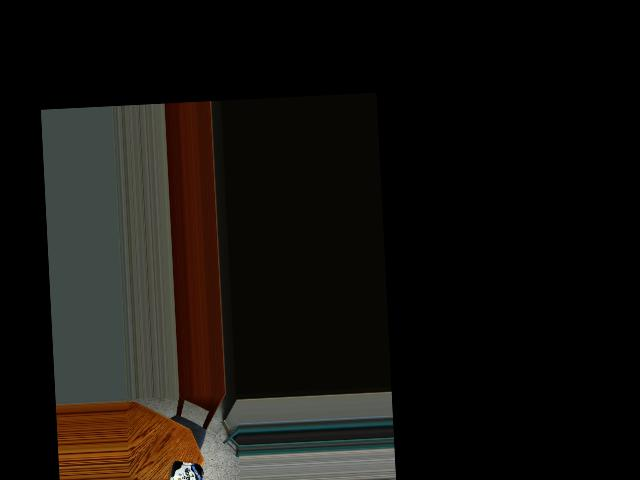cheese: (166, 458, 205, 480)
